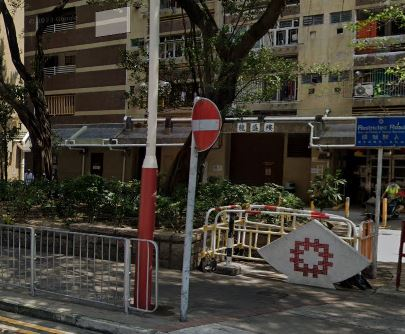No Enter: (191, 97, 225, 153)
